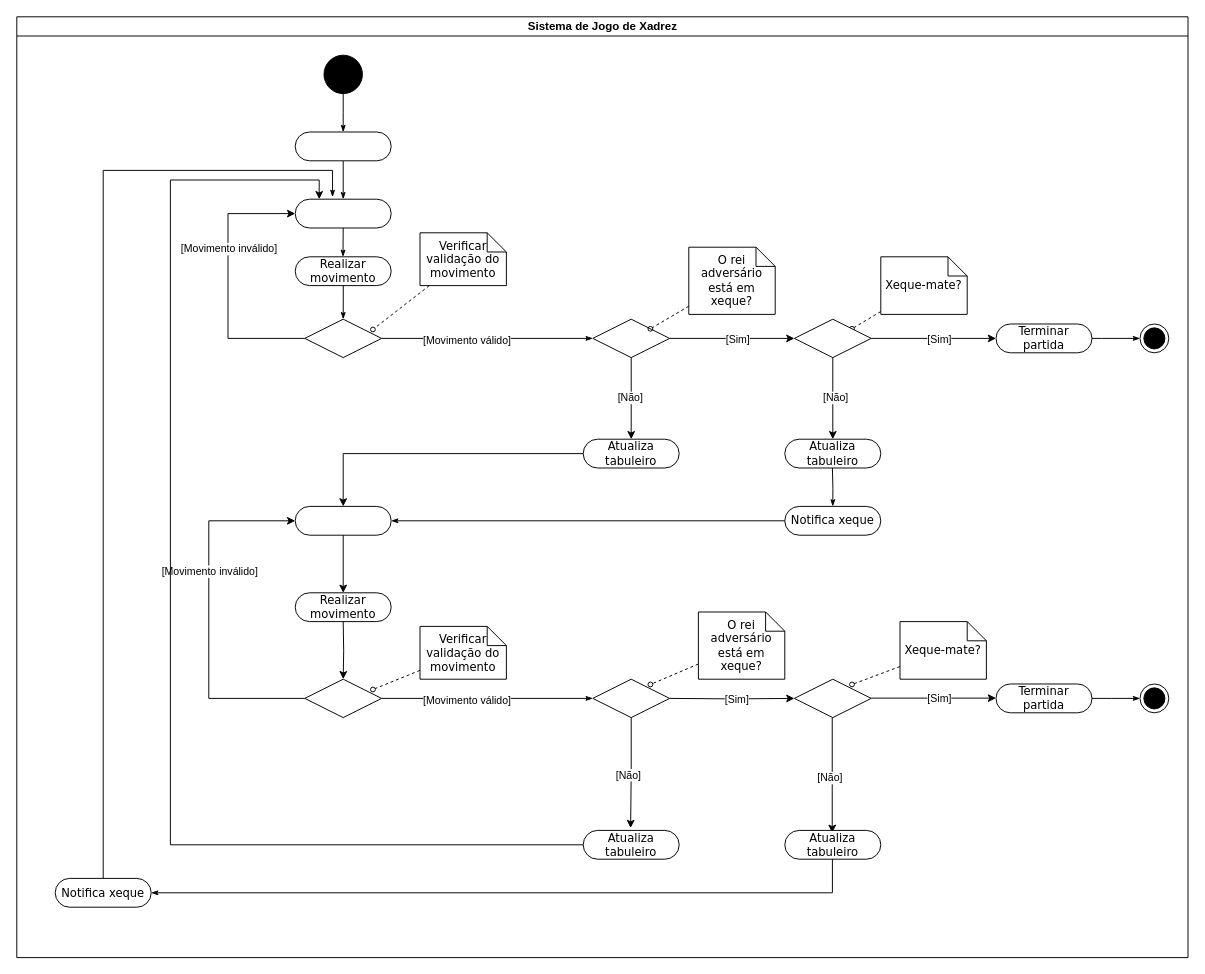
This 1205x974 diagram has some shape labels left out. The shapes that lost their labels are listed below. From the top down, each one's centre as x and y in pixels, then its label:
At [342,146]: "Iniciar jogo".
At [342,213]: "Vez das peças brancas".
At [342,520]: "Vez das peças pretas".
